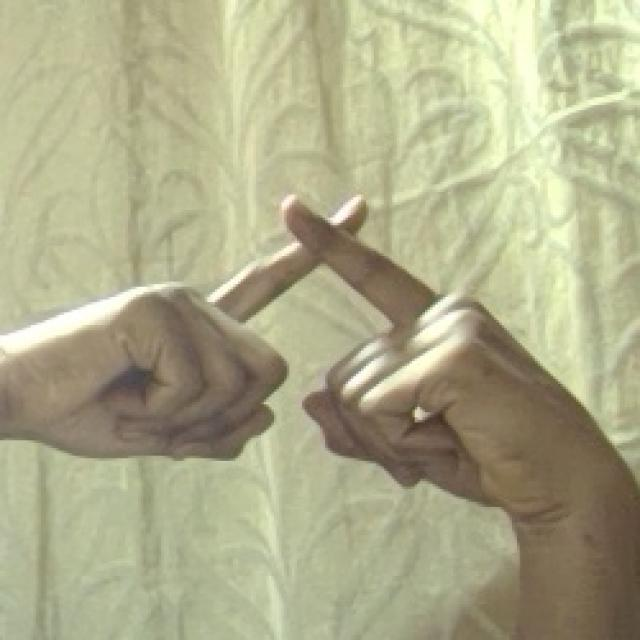Alphabet-X: (15, 173, 564, 524)
